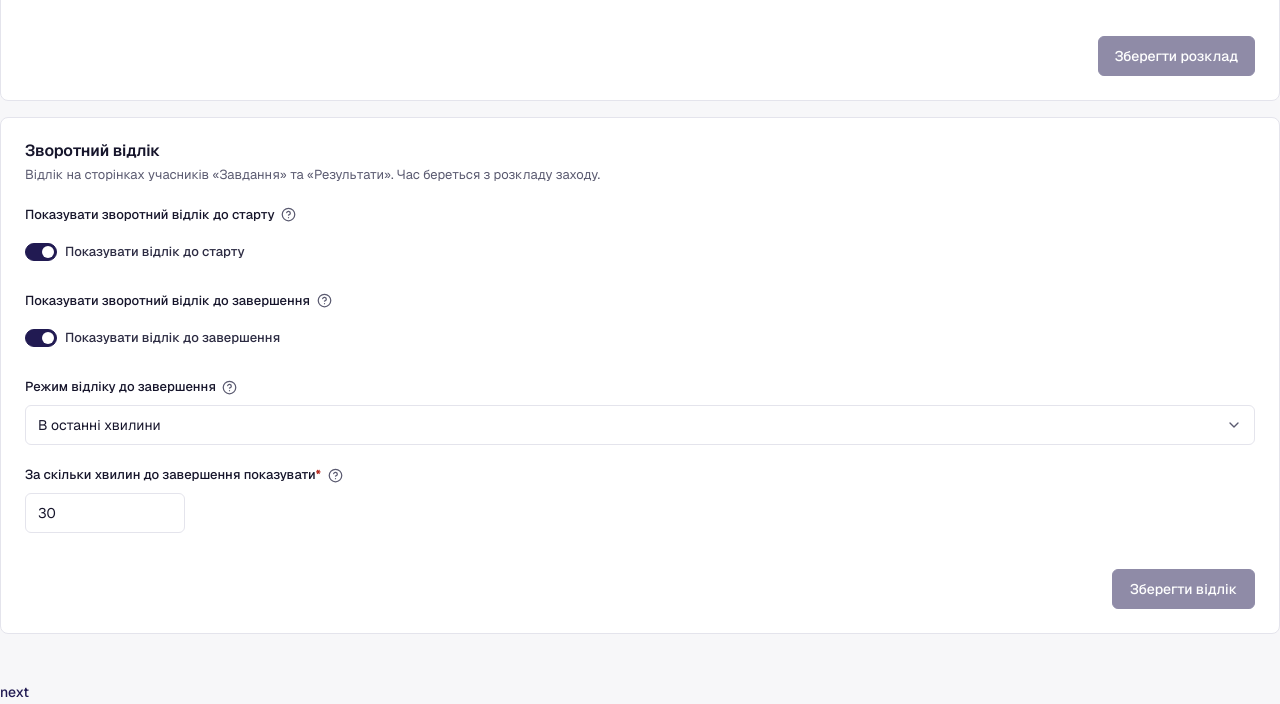
Scenario: event schedule › finish countdown › is clean again after returning to the saved mode
(page scrolled)
Press the mouse on the button with aria-label "Режим відліку до завершення" at (99, 425), box [25,405,1255,445]
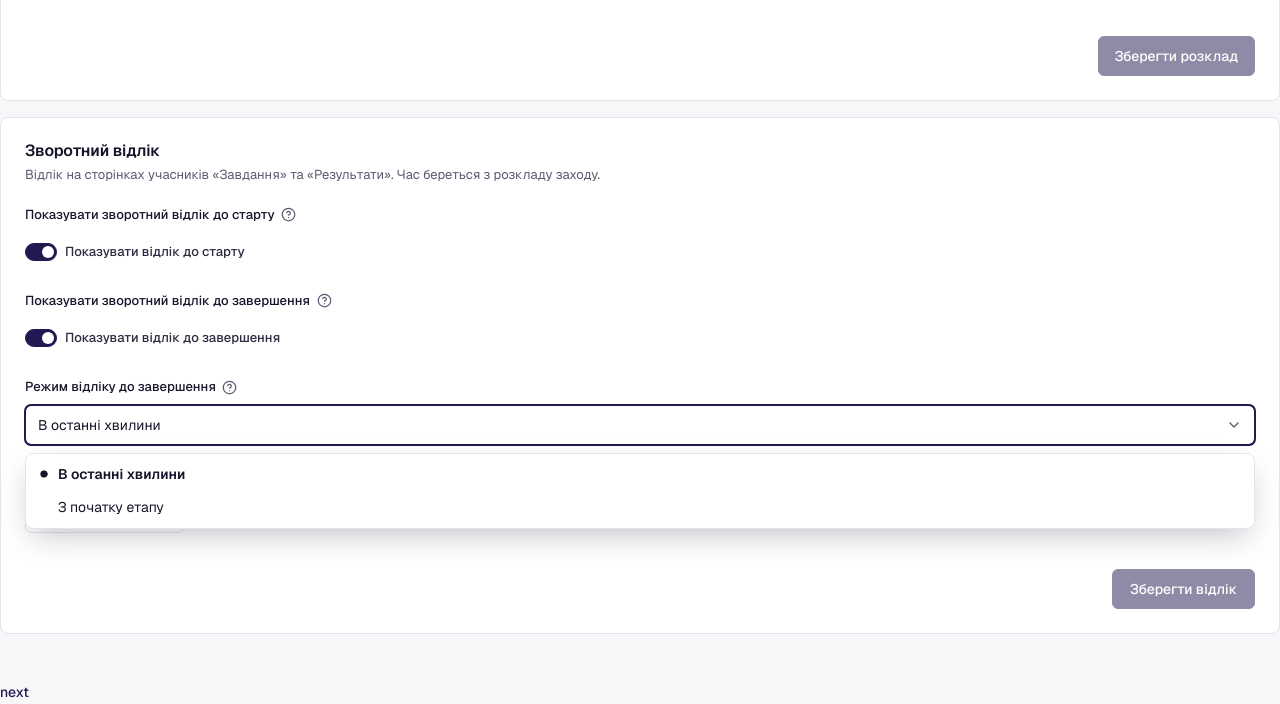
Click the menu item "З початку етапу" at (111, 507), box [58,498,164,516]
(page scrolled)
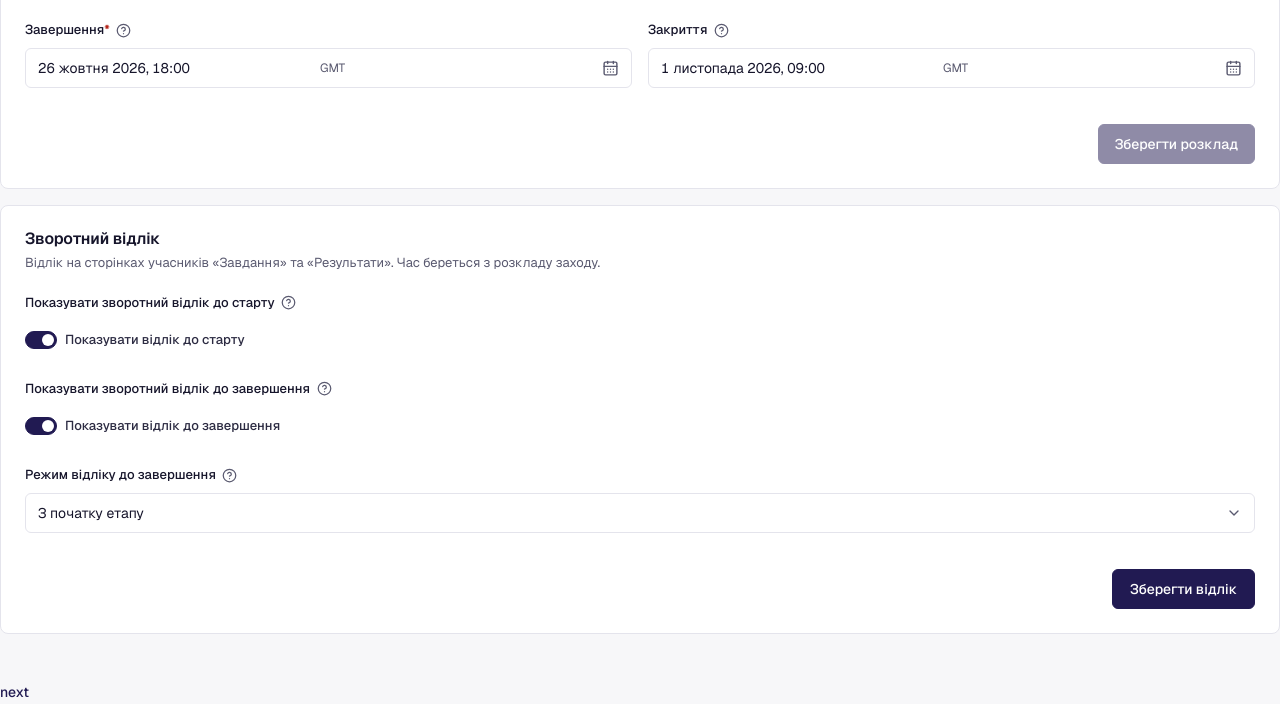
expect the button "Зберегти відлік" is enabled: met, box [1112,569,1255,609]
Press the mouse on the button with aria-label "Режим відліку до завершення" at (91, 513), box [25,493,1255,533]
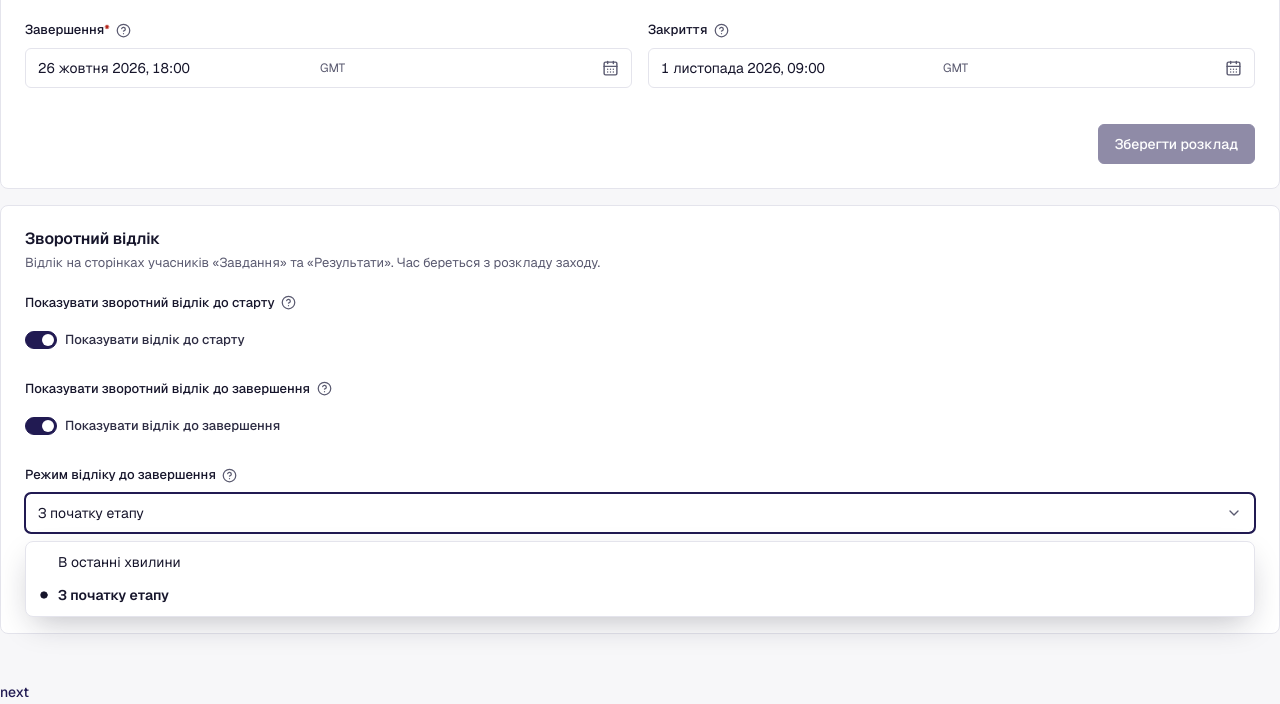
Click the menu item "В останні хвилини" at (119, 562), box [58,553,181,571]
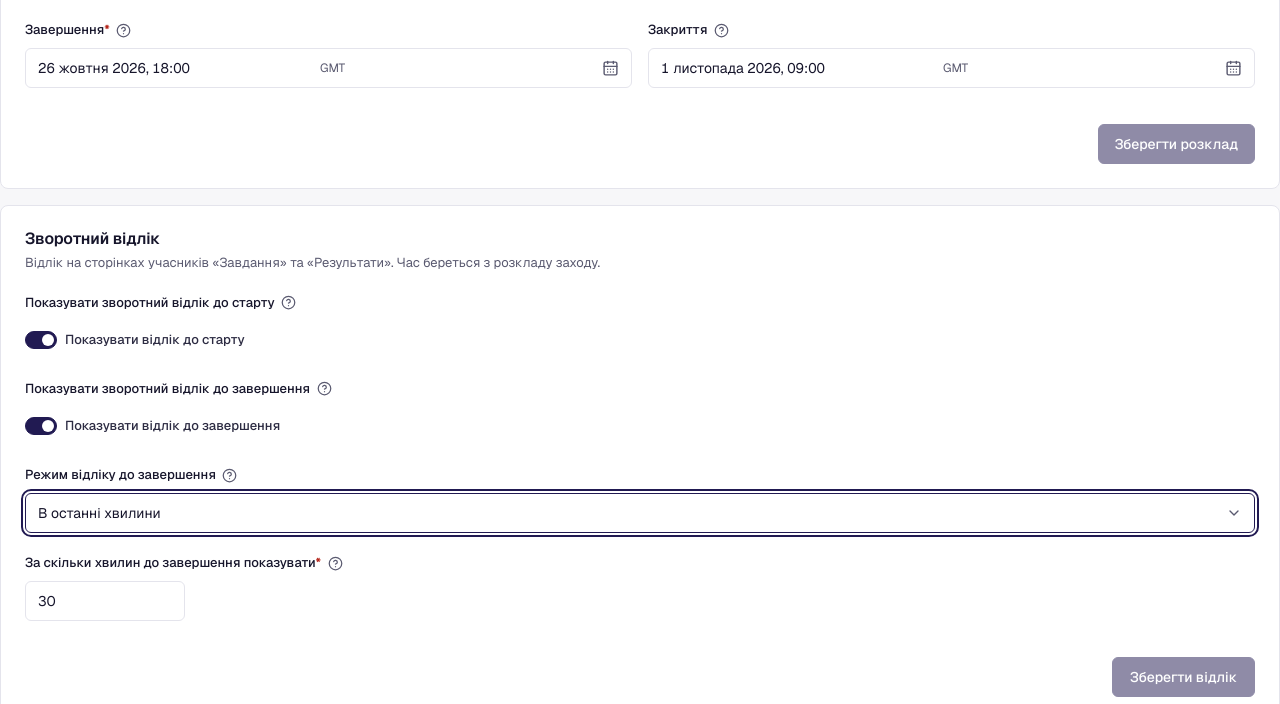
expect the button "Зберегти відлік" is disabled: met, box [1112,657,1255,697]
